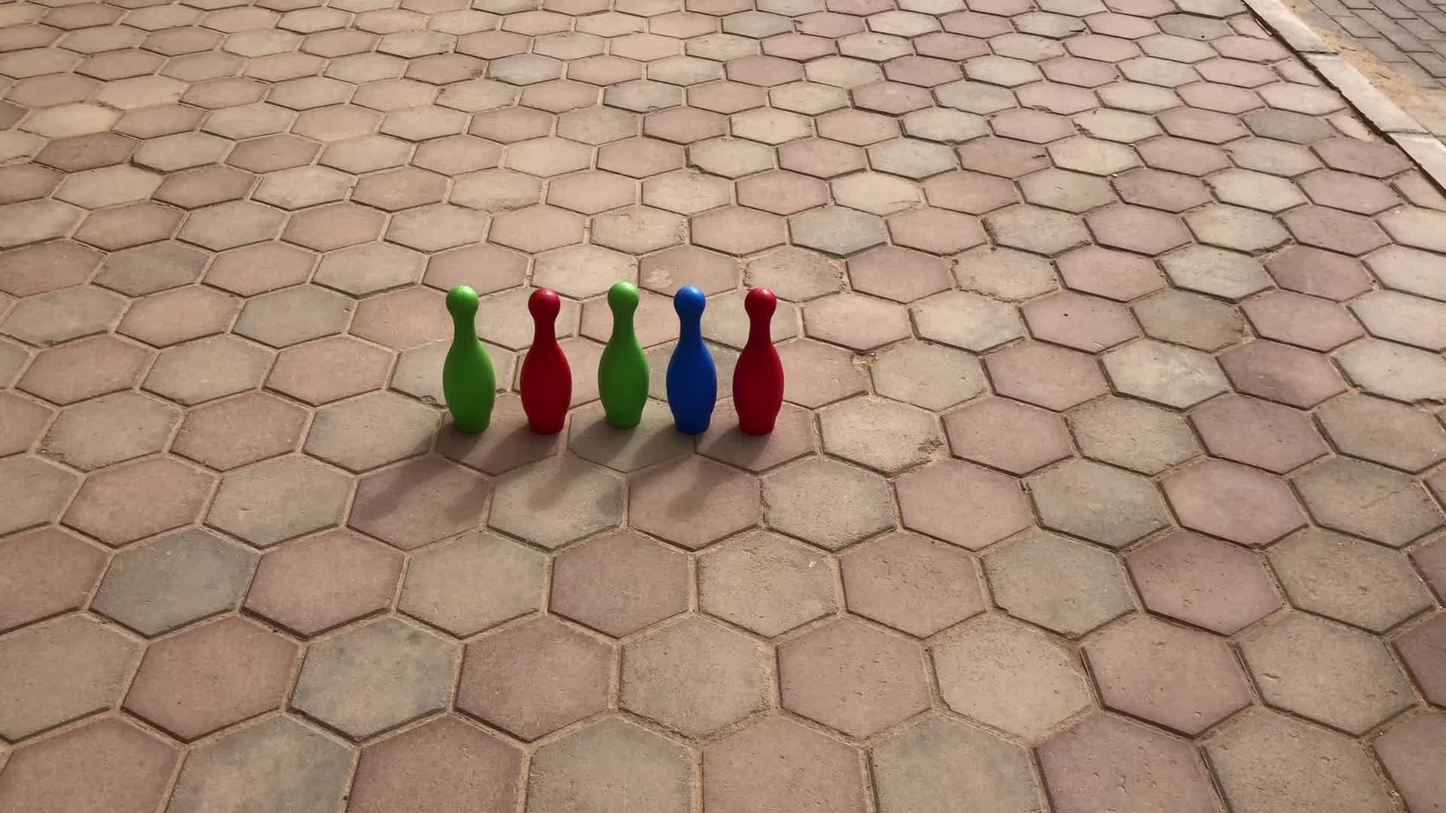bowling-pin: (442, 286, 496, 433), (666, 287, 717, 436), (734, 287, 784, 436), (521, 288, 571, 434), (599, 282, 648, 430)
